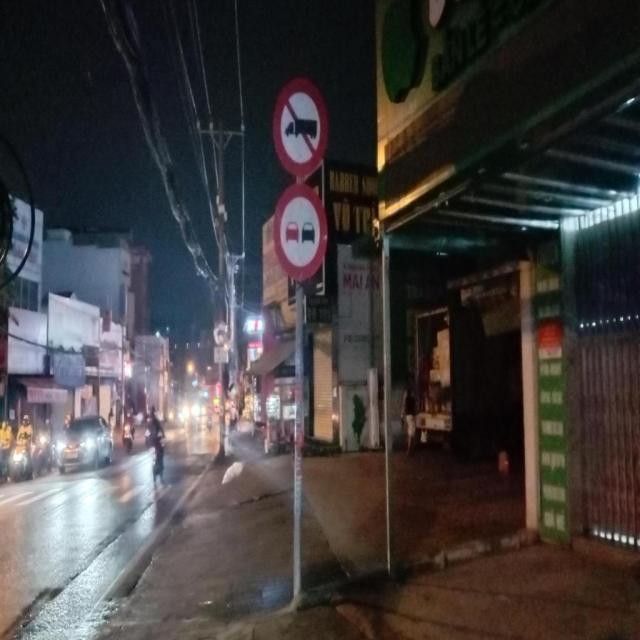106-cam-oto-tai: (212, 322, 228, 344)
125-cam-vuot: (270, 182, 330, 282)
